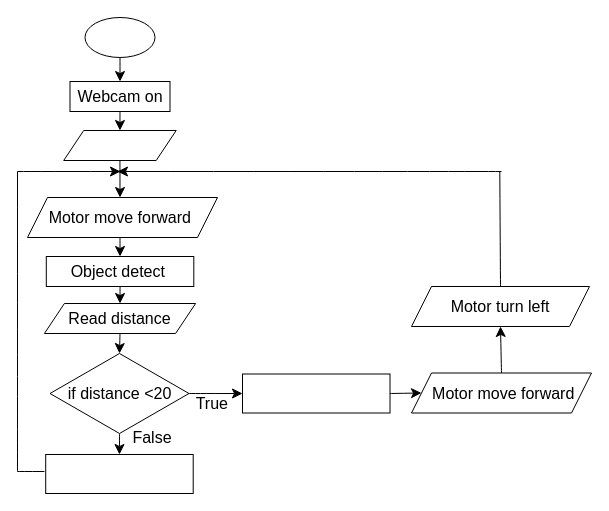
Image size: 609x511. Some labels were removed from this diagram. Each missing label, with the centre of its shape:
"Send command '0' to arduino" belongs at (119,474).
"Send command '1' to arduino" belongs at (316,393).
"Start" belongs at (119,37).
"Switch on" belongs at (119,145).
